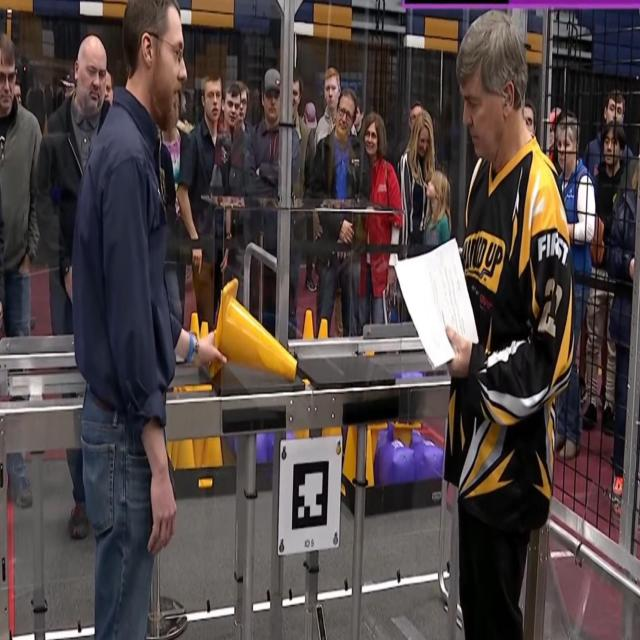frc_cone: (208, 277, 299, 383), (390, 416, 419, 448), (342, 425, 358, 482), (364, 428, 377, 486), (201, 438, 223, 470), (298, 307, 317, 341), (179, 433, 195, 468), (192, 434, 204, 468), (316, 318, 329, 341), (168, 438, 178, 465), (190, 309, 200, 336), (199, 320, 211, 340)
frc_cube: (379, 438, 414, 486), (413, 437, 442, 482), (255, 432, 271, 461)
